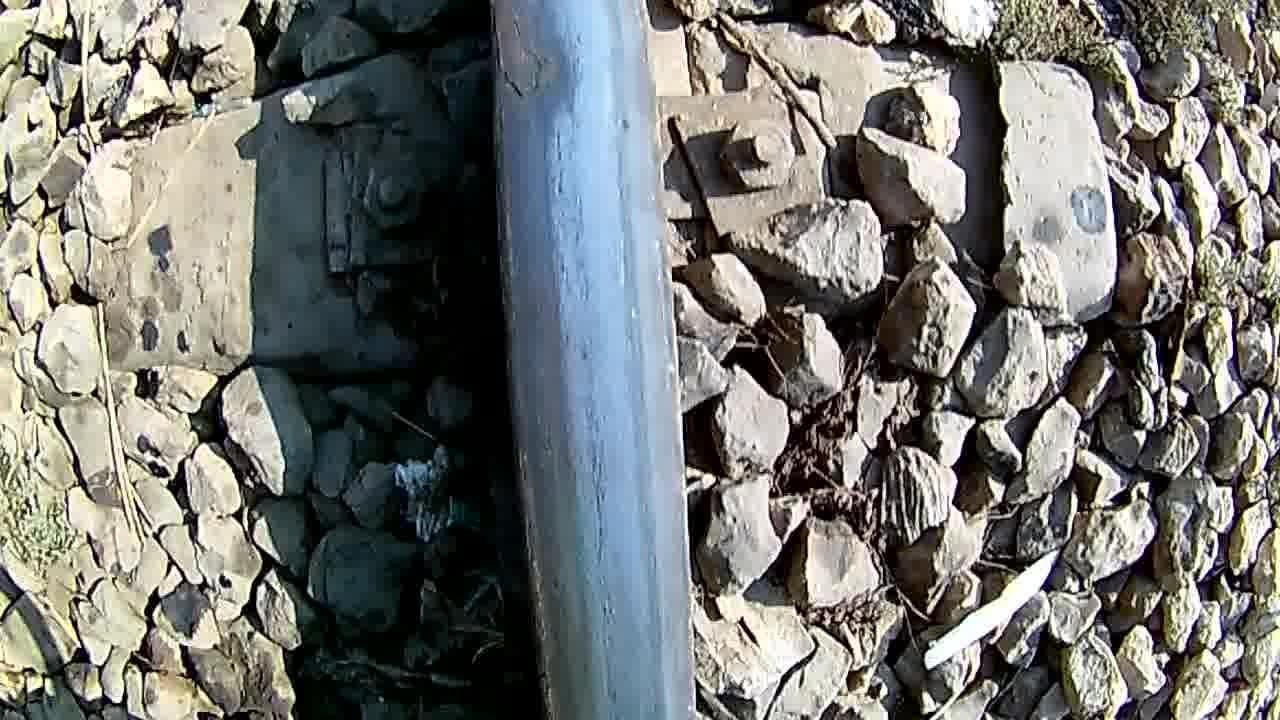crack: (492, 106, 688, 720), (474, 7, 592, 102)
